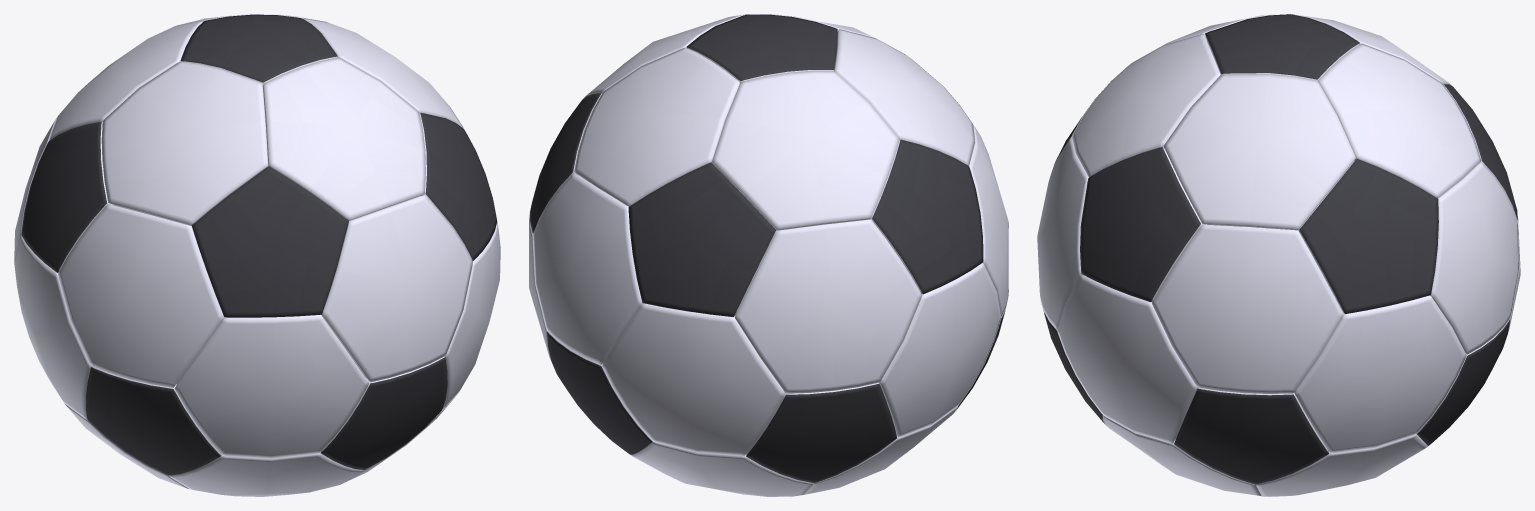
File: footballBall.fbx
3 renders of one model, left to right at view 1: azimuth 30°, elevation 25°; view 2: azimuth 150°, elevation 25°; view 3: azimuth 270°, elevation 25°, orthographic.
Parts seen in each view (by area): view 1: FootballBall; view 2: FootballBall; view 3: FootballBall.
Boxes of the visible parts, x1,y1,x2,y2 form: FootballBall: (14, 14, 500, 496); FootballBall: (529, 14, 1008, 496); FootballBall: (1037, 14, 1520, 496).
Size of the model in its own units: 76.23 by 76.54 by 76.29.
